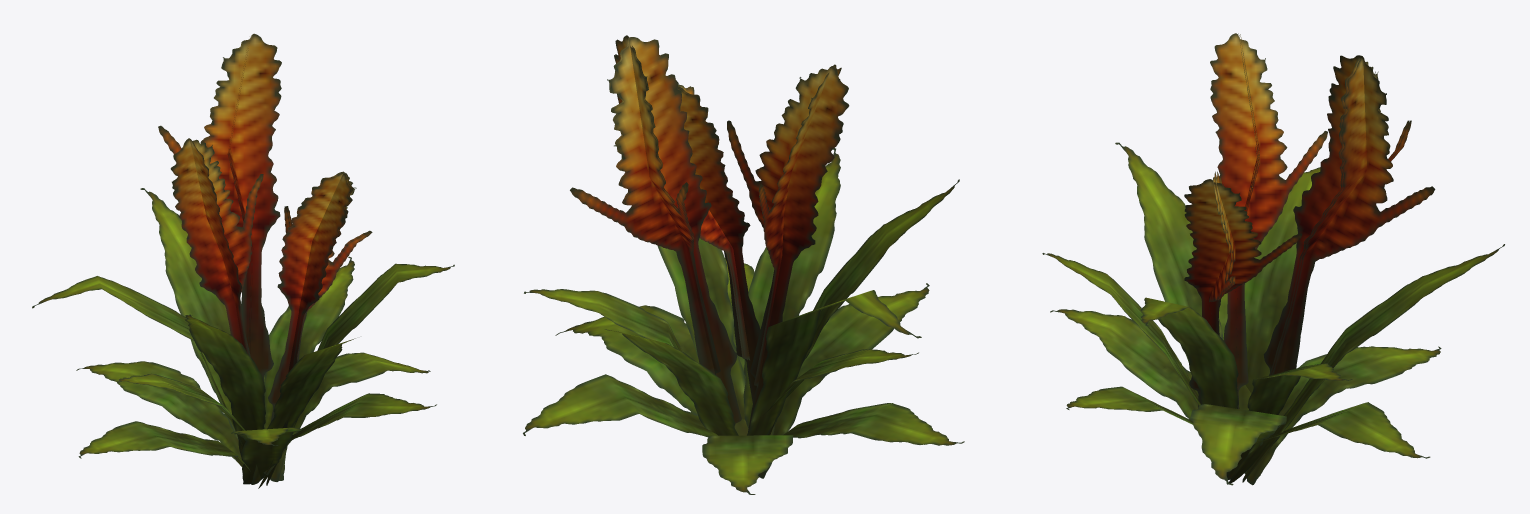
Rendered from SC001Jzhiwu_40.FBX.
3 views of the same model, side by side, from view 1: azimuth 30°, elevation 25°; view 2: azimuth 150°, elevation 25°; view 3: azimuth 270°, elevation 25° (orthographic). The views are drawn at different scales.
Parts seen in each view (by area): view 1: SC001Jzhiwu_40; view 2: SC001Jzhiwu_40; view 3: SC001Jzhiwu_40.
Boxes of the visible parts, box(x1,y1,x2,y2) form: SC001Jzhiwu_40: box(32, 33, 454, 488); SC001Jzhiwu_40: box(523, 35, 964, 494); SC001Jzhiwu_40: box(1042, 33, 1504, 485).
Size of the model in its own units: 2.29 by 2.35 by 2.26.
